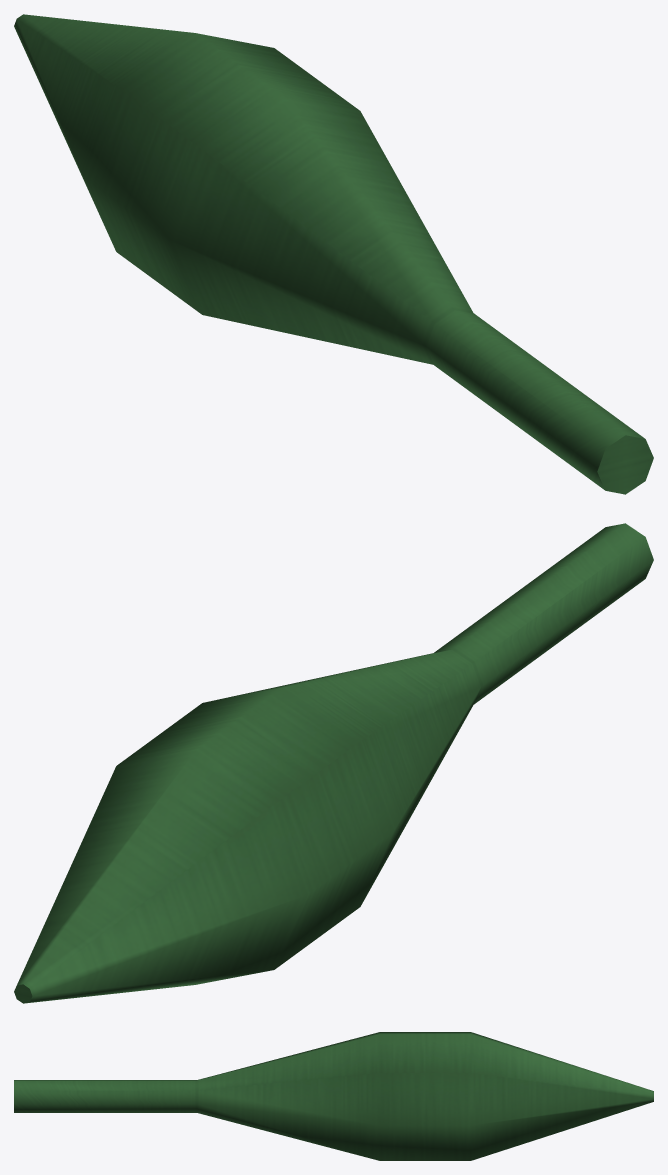
File: rocket.FBX
The picture shows the model from 3 angles, top to bottom: view 1: azimuth 30°, elevation 25°; view 2: azimuth 150°, elevation 25°; view 3: azimuth 270°, elevation 25°; orthographic projection. The views are drawn at different scales.
Parts seen in each view (by area): view 1: rocket; view 2: rocket; view 3: rocket.
Boxes of the visible parts, box(x1,y1,x2,y2) form: rocket: box(14, 14, 653, 494); rocket: box(14, 523, 653, 1003); rocket: box(14, 1032, 653, 1160).
Size of the model in its own units: 9.6 by 9.6 by 44.8.
